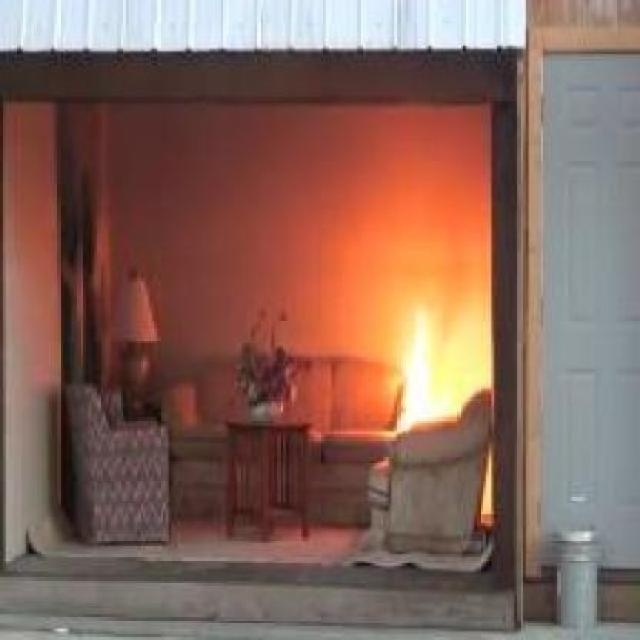fire: (377, 289, 474, 435)
